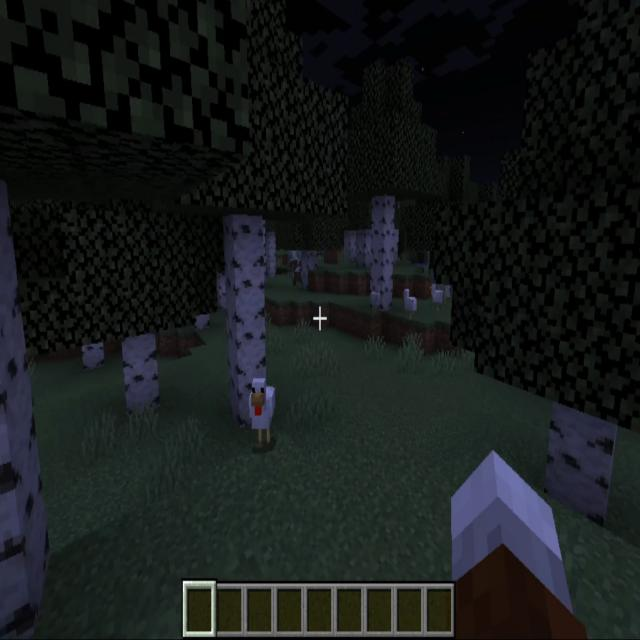Chicken: (248, 370, 280, 453), (399, 286, 420, 319), (367, 280, 384, 316), (428, 279, 444, 309)
Cow: (287, 253, 307, 285)
